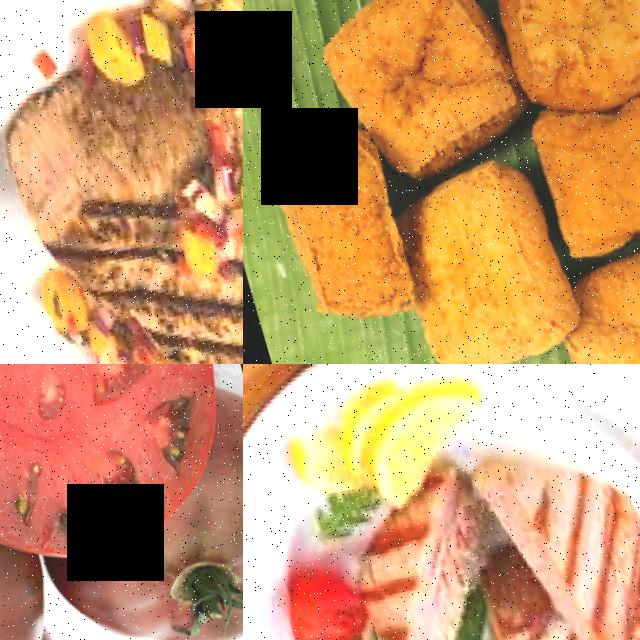lemon: (349, 364, 511, 520)
tofu: (378, 136, 590, 364), (329, 0, 534, 190), (263, 100, 424, 329), (527, 57, 640, 274), (477, 0, 640, 128), (552, 206, 640, 364)
